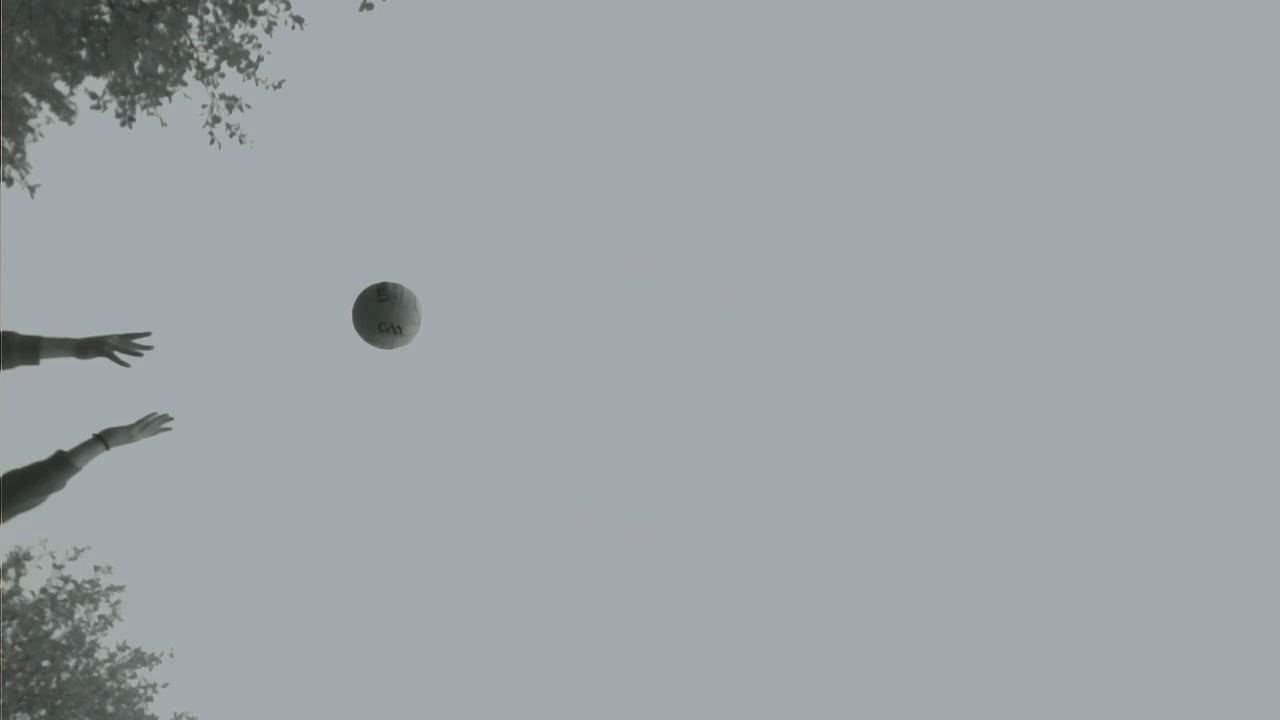Football-Spotter: (352, 282, 419, 348)
